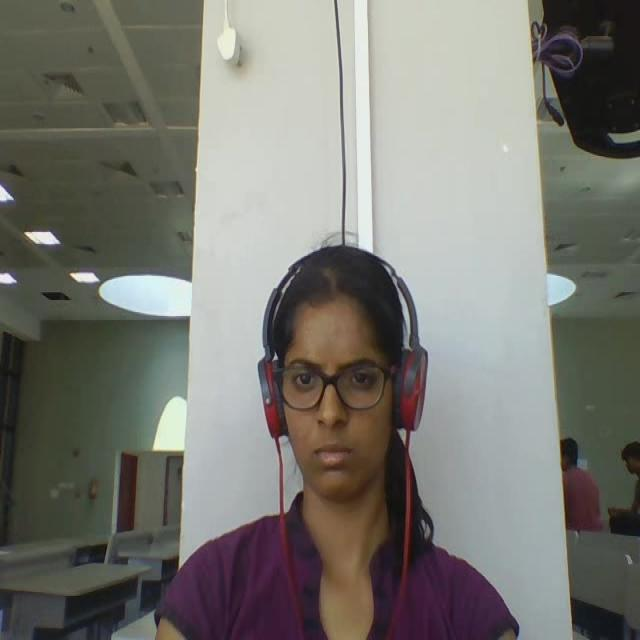Engaged: (231, 232, 440, 550)
